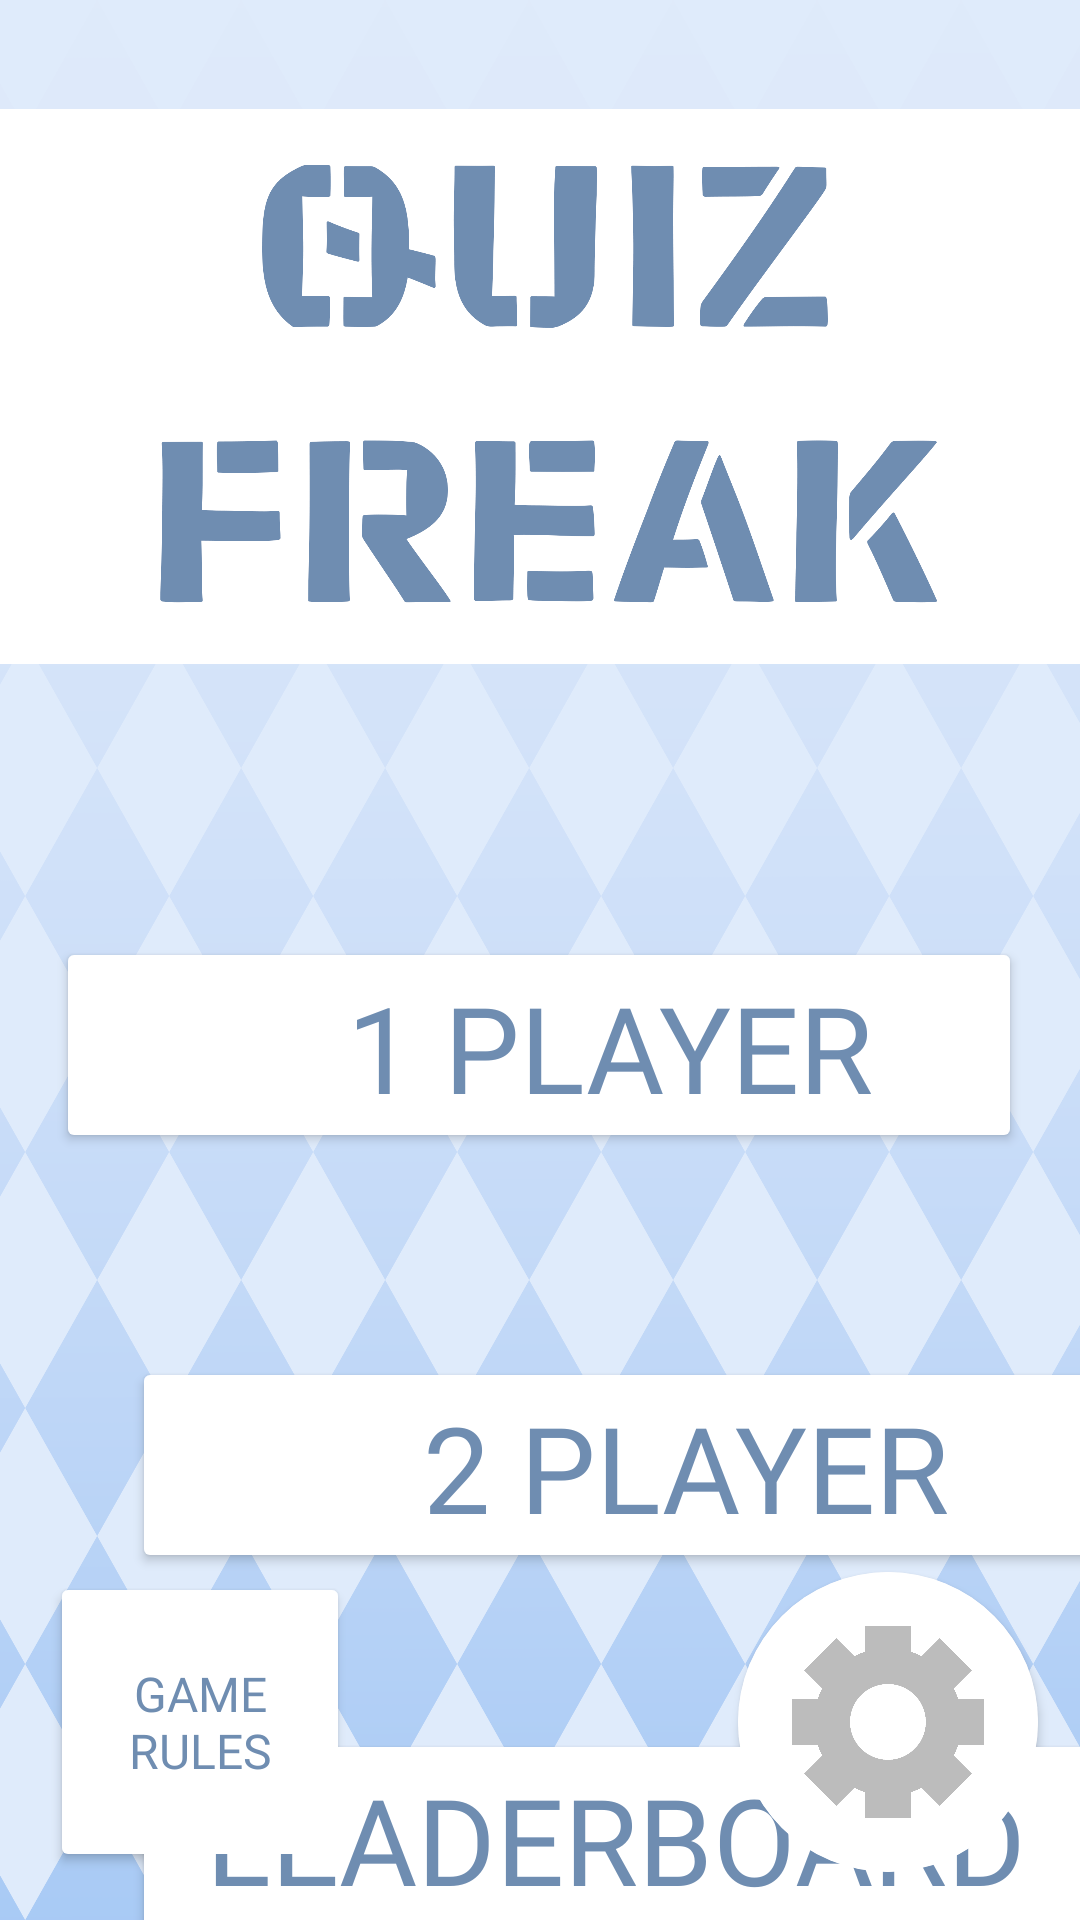

Screen size 1080x1920. Icon name, then its center in pixels as (x=x, y=y):
Settings cog: (x=888, y=1722)
